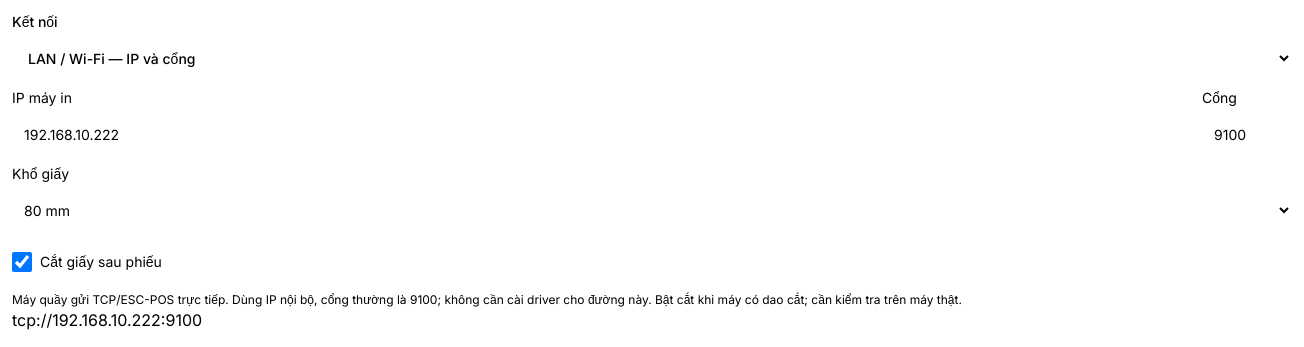
Scenario: printer route setup › retains the selected address when disabling paper cut
The width and height of the screenshot is (1304, 347).
Click the checkbox named "Cắt giấy sau phiếu — Quầy" at coordinates (22, 262), box [12,252,32,272]
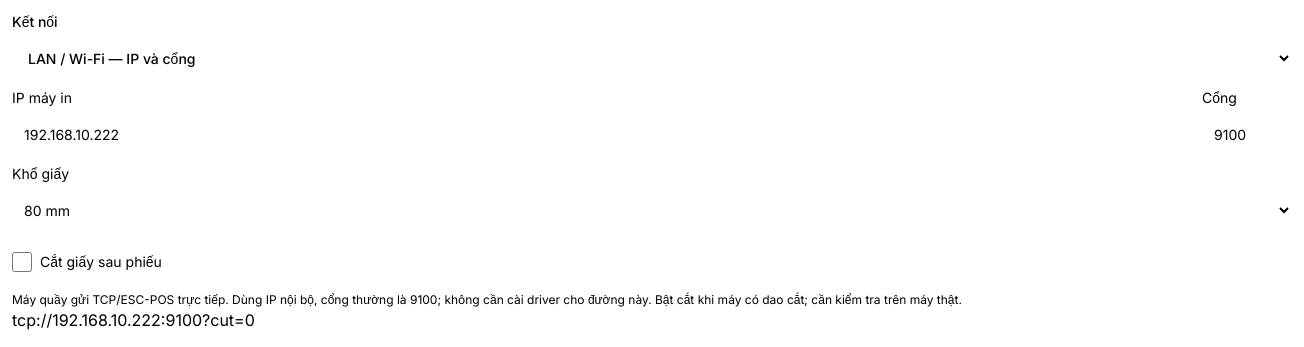
Expected: the field labelled "IP máy in" holds "192.168.10.222", [12,112,1194,156]
Result: the text "tcp://192.168.10.222:9100?cut=0" is shown at [12,310,255,330]
